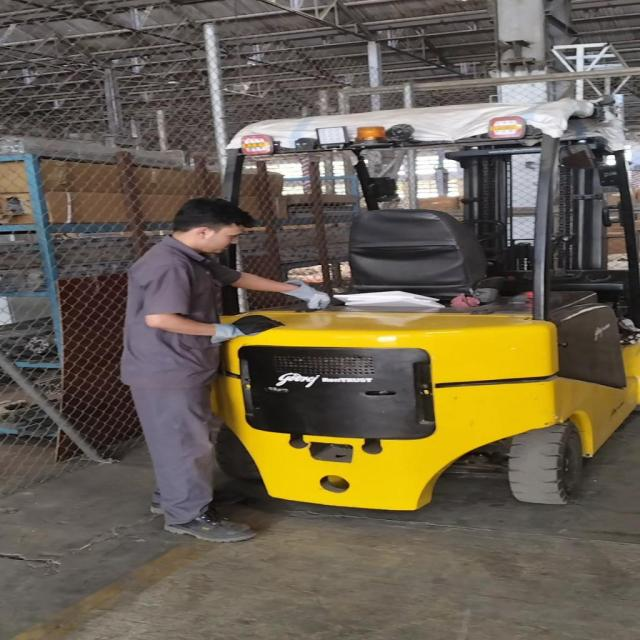Gloves-Detection: (291, 276, 341, 306), (209, 316, 268, 336)
